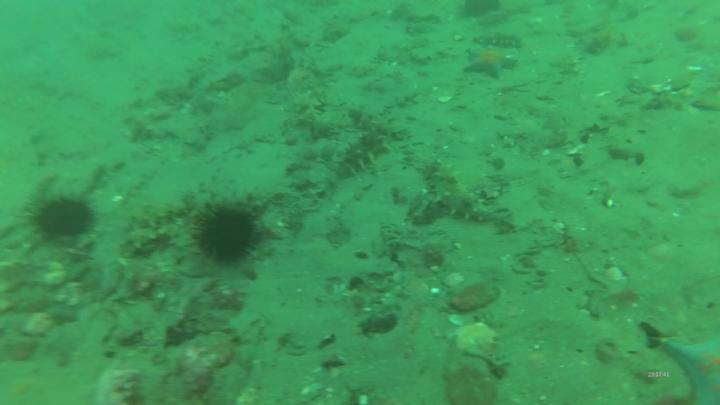echinus: (23, 188, 106, 249), (194, 203, 262, 265)
holothurian: (424, 153, 489, 222), (340, 124, 392, 181), (129, 199, 192, 231), (121, 226, 169, 263)
starfish: (662, 332, 720, 405), (464, 45, 518, 82)
